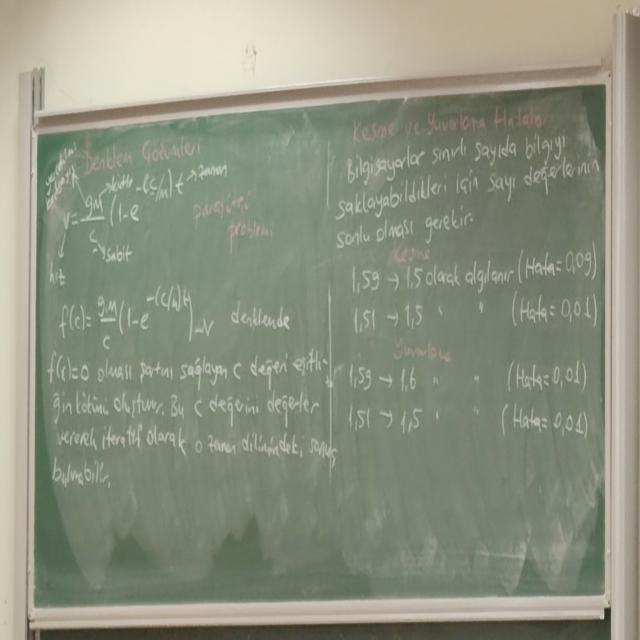math: (54, 270, 217, 346), (60, 192, 111, 264)
text: (47, 344, 341, 491), (330, 108, 600, 245), (189, 188, 281, 256), (221, 292, 300, 343), (77, 137, 211, 166)
